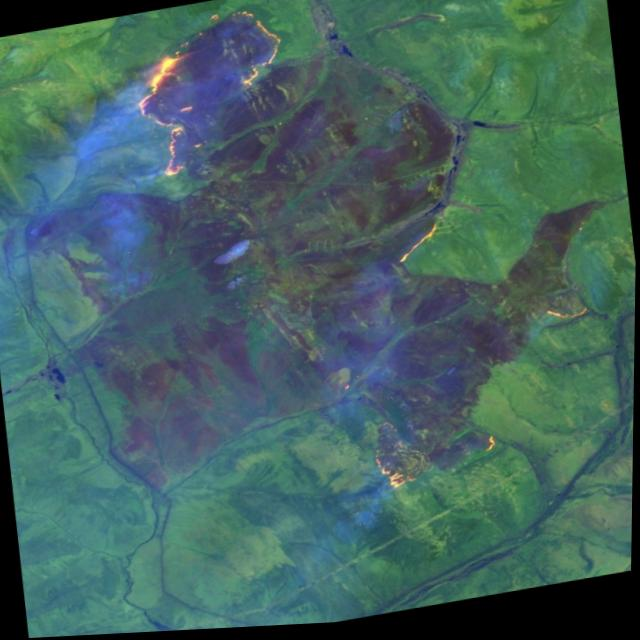fire: (114, 0, 305, 188), (357, 401, 511, 500), (387, 220, 450, 274), (536, 295, 598, 345)
